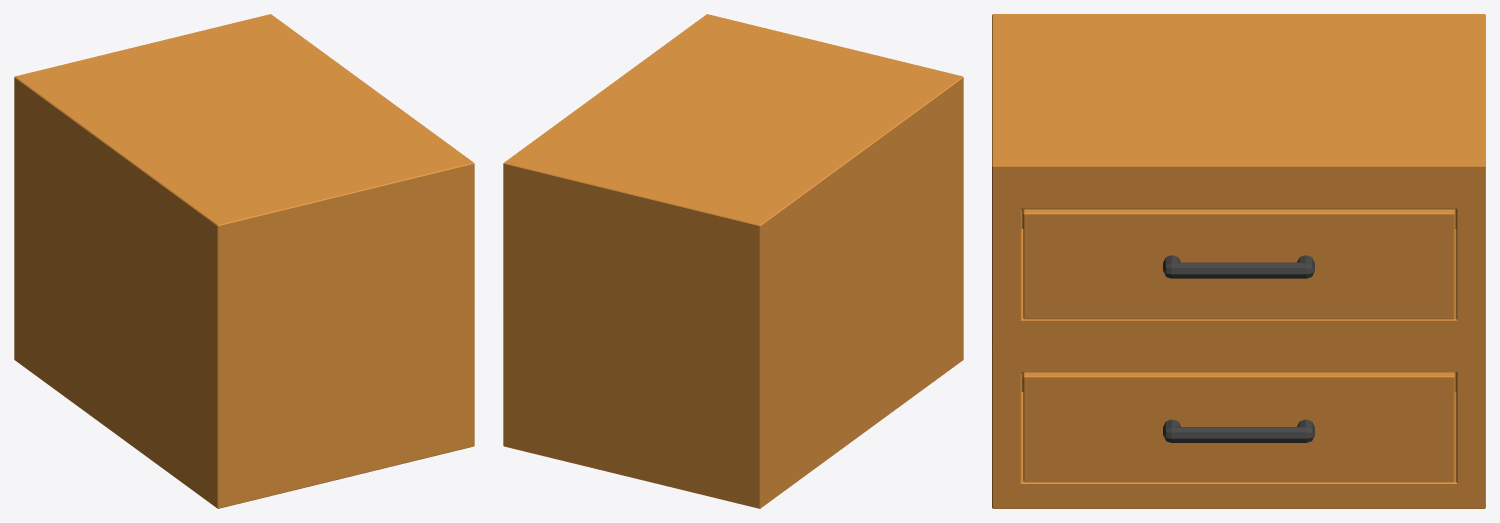
File: Drawer.glb
The picture shows the model from 3 angles, left to right: view 1: azimuth 30°, elevation 25°; view 2: azimuth 150°, elevation 25°; view 3: azimuth 270°, elevation 25°; orthographic projection. The views are drawn at different scales.
Visible parts, largest first — view 1: Cube-col; view 2: Cube-col; view 3: Cube-col, Handle.
Boxes of the visible parts, x1,y1,x2,y2 form: Cube-col: (14,14,474,508); Cube-col: (503,14,963,508); Cube-col: (992,14,1485,508); Handle: (1163,255,1314,442).
Size of the model in its own units: 2.18 by 2.11 by 2.74.
